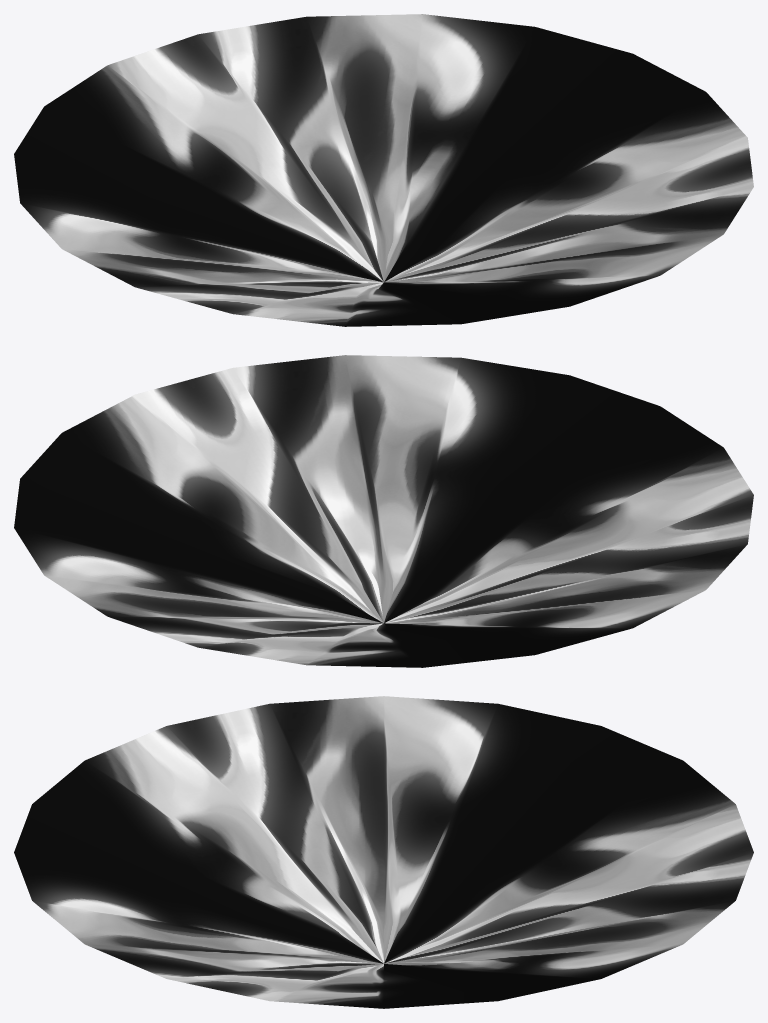
The model's file is FusionCone.fbx.
3 views of the same model, one above another, from view 1: azimuth 30°, elevation 25°; view 2: azimuth 150°, elevation 25°; view 3: azimuth 270°, elevation 25° (orthographic).
Parts seen in each view (by area): view 1: FusionCone; view 2: FusionCone; view 3: FusionCone.
Boxes of the visible parts, <box> form: FusionCone: <box>14,14,753,326</box>; FusionCone: <box>14,355,753,667</box>; FusionCone: <box>14,696,753,1008</box>.
Bounding box in the file's own units: 192 × 31.83 × 192.
